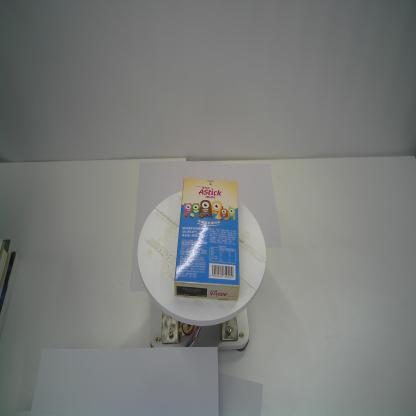Dessert: (174, 178, 240, 300)
